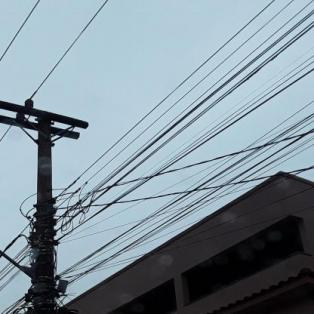Poste: (23, 111, 83, 314)
